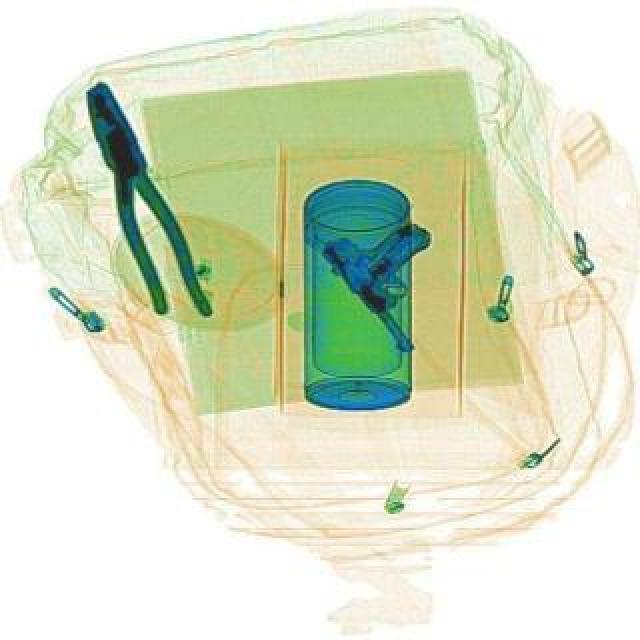gun: (312, 194, 482, 358)
wrench: (68, 74, 214, 330)
